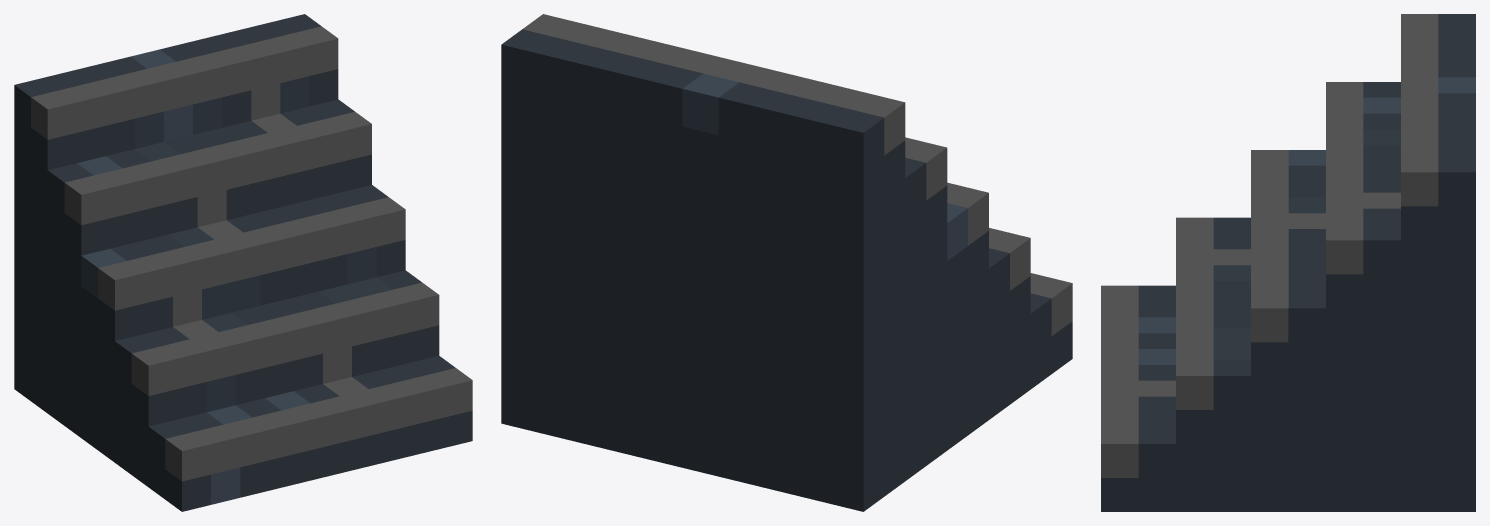
Rendered from stairs.obj.
3 views of the same model, side by side, from view 1: azimuth 30°, elevation 25°; view 2: azimuth 150°, elevation 25°; view 3: azimuth 270°, elevation 25° (orthographic). The views are drawn at different scales.
Size of the model in its own units: 1 by 1 by 1.
Materials: 1 (1 with a texture image).
